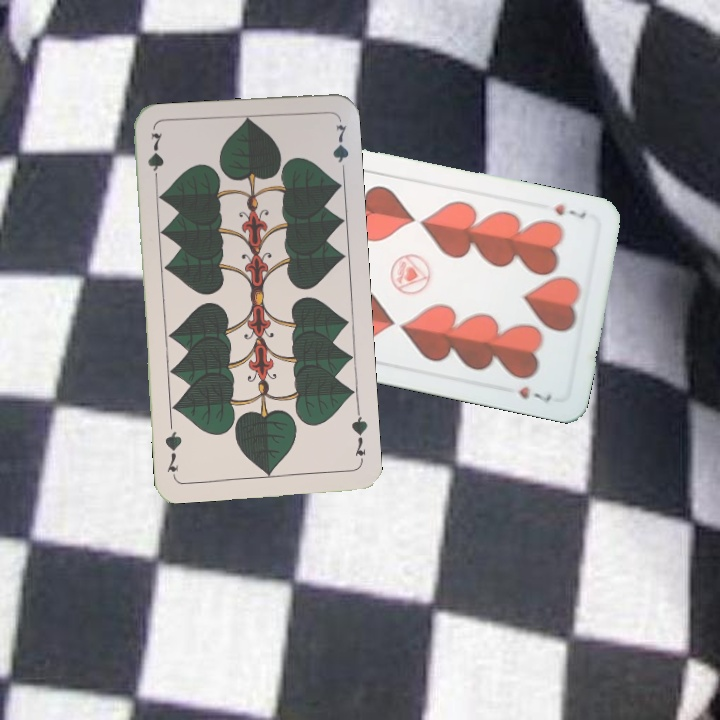G7: (143, 128, 167, 188), (348, 406, 370, 465)
H7: (550, 200, 589, 222)
